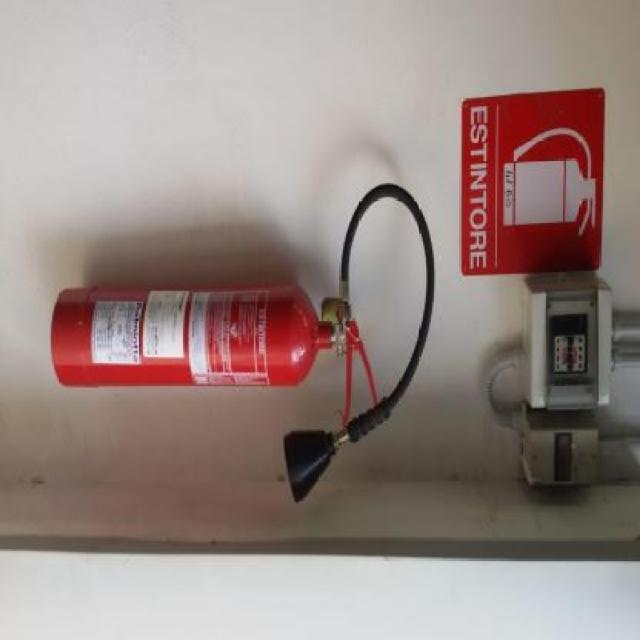fire extinguisher: (51, 184, 437, 505)
